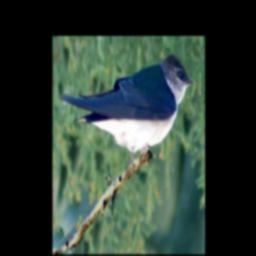Swallow: (59, 53, 195, 172)
